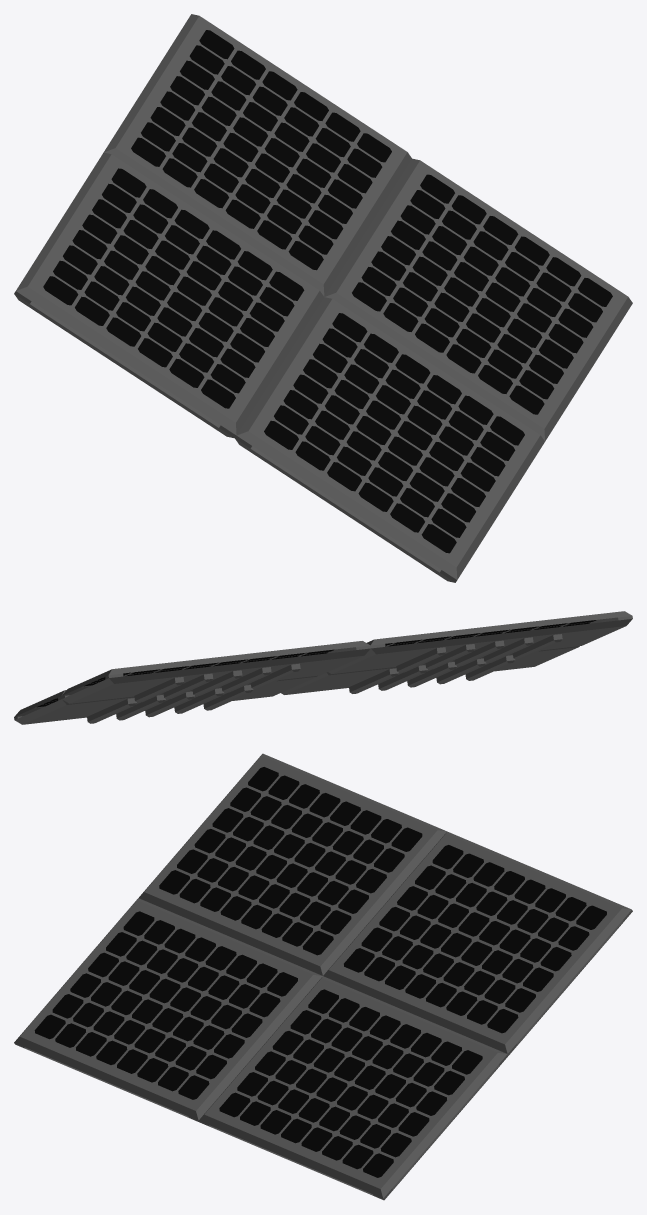
File: SolarPanel.fbx
3 views of the same model, one above another, from view 1: azimuth 30°, elevation 25°; view 2: azimuth 150°, elevation 25°; view 3: azimuth 270°, elevation 25° (orthographic). The views are drawn at different scales.
Parts seen in each view (by area): view 1: SolarPanel_Panel.001, SolarPanel_Panel.002, SolarPanel_Panel.004, SolarPanel_Panel.003; view 2: SolarPanel_Panel.004, SolarPanel_Panel.001, SolarPanel_Panel.003, SolarPanel_Panel.002; view 3: SolarPanel_Panel.003, SolarPanel_Panel.004, SolarPanel_Panel.002, SolarPanel_Panel.001.
Part boxes in pixels (bbox=[...]): SolarPanel_Panel.001: bbox=[14, 152, 324, 438]; SolarPanel_Panel.002: bbox=[235, 297, 544, 582]; SolarPanel_Panel.004: bbox=[103, 14, 411, 296]; SolarPanel_Panel.003: bbox=[324, 158, 632, 441]; SolarPanel_Panel.004: bbox=[61, 641, 370, 703]; SolarPanel_Panel.001: bbox=[328, 611, 632, 673]; SolarPanel_Panel.003: bbox=[14, 675, 317, 724]; SolarPanel_Panel.002: bbox=[281, 646, 579, 694]; SolarPanel_Panel.003: bbox=[198, 976, 508, 1200]; SolarPanel_Panel.004: bbox=[323, 831, 632, 1055]; SolarPanel_Panel.002: bbox=[14, 898, 322, 1121]; SolarPanel_Panel.001: bbox=[139, 753, 446, 975].
Bounding box in the file's own units: 4267 × 1452 × 4267.
1 material, 1 textured.
